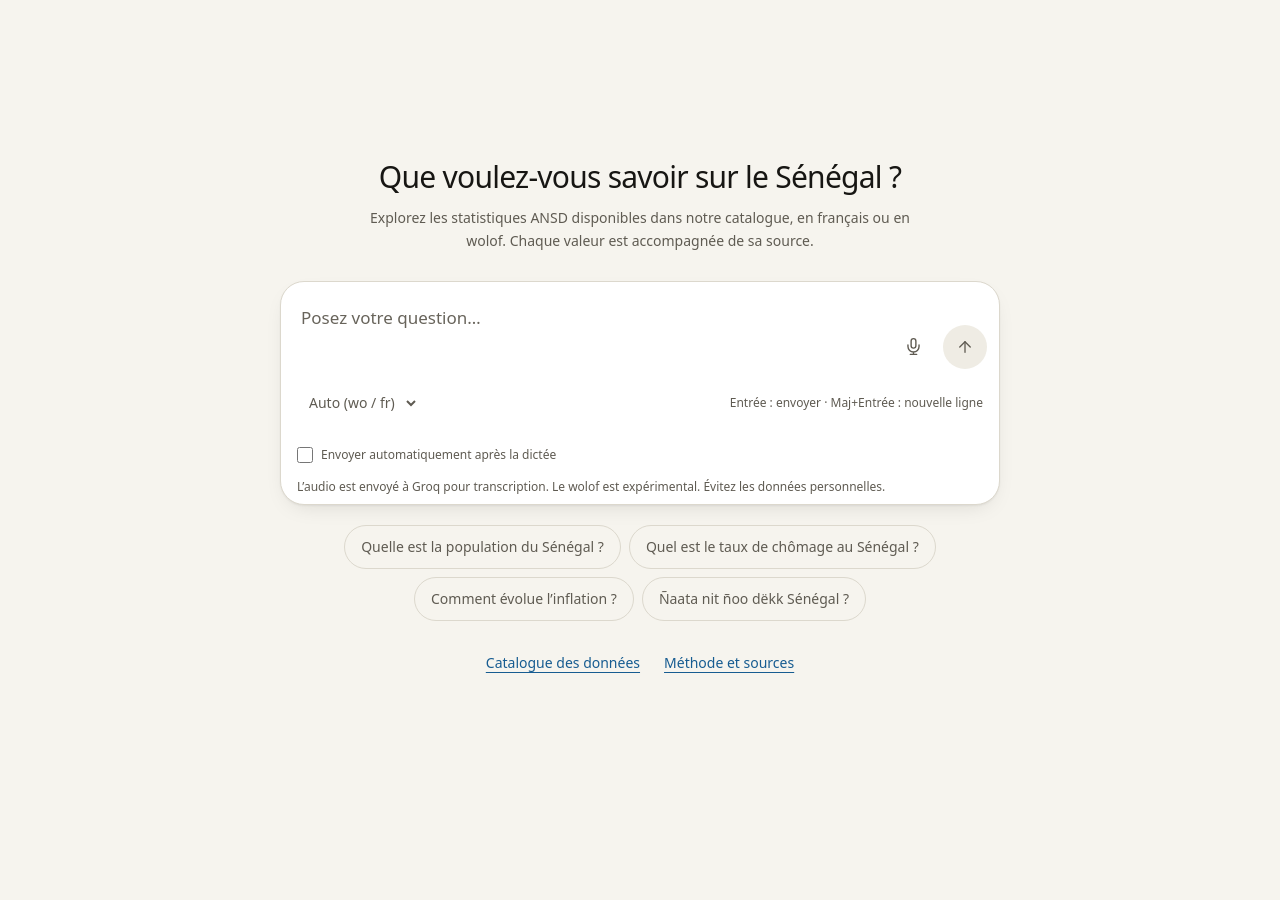
interrupts a pending answer and allows retry without overlapping requests
This screenshot has width=1280, height=900.
Type "Population" into the text box at [592, 331], box [301,294,883,368]
Then press Enter
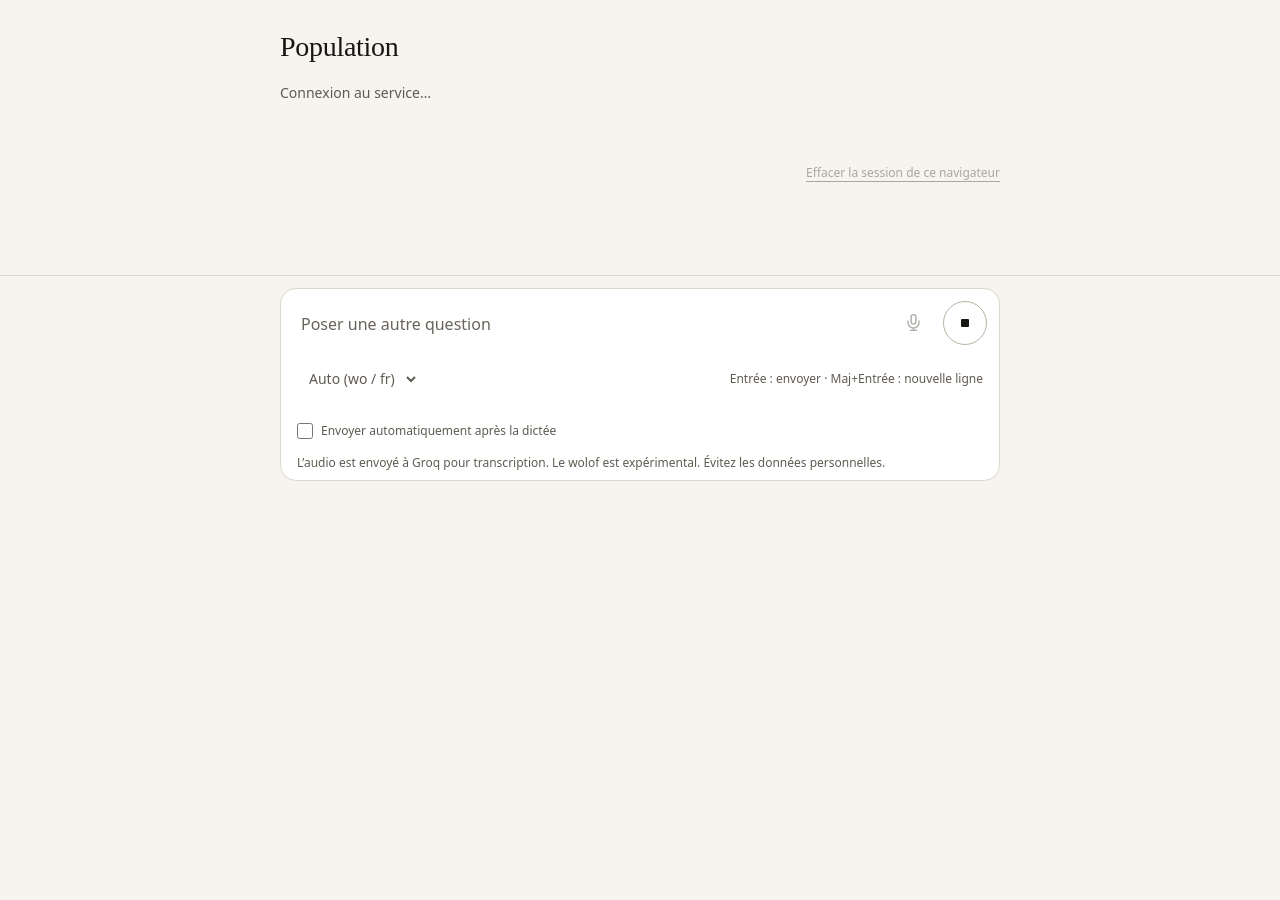
Click the button named "Arrêter la question en cours" at [965, 323], box [943,301,987,345]
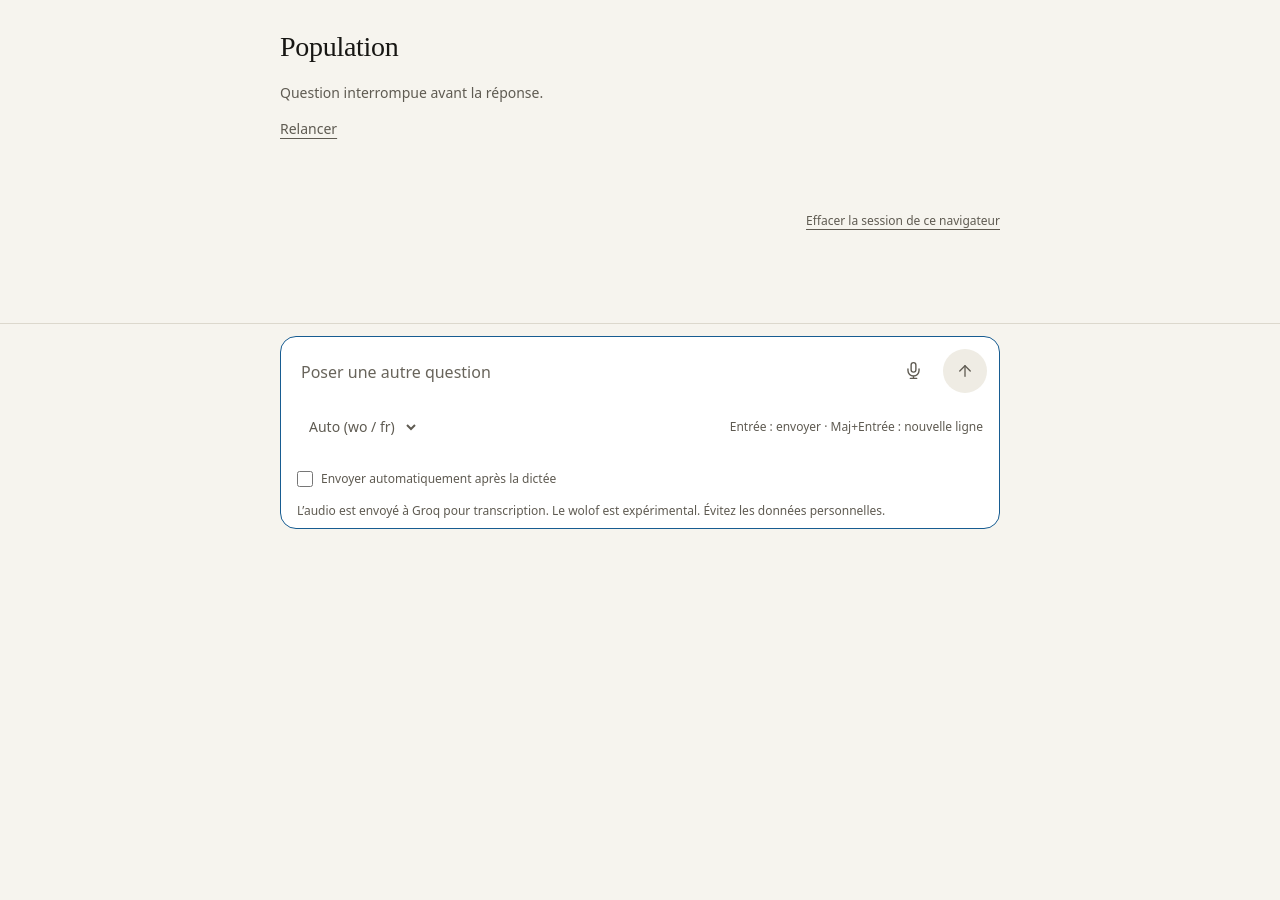
expect the text "Question interrompue avant la réponse." is shown: met, box [280,83,543,102]
Click the button "Relancer" at [309, 129], box [280,107,337,151]
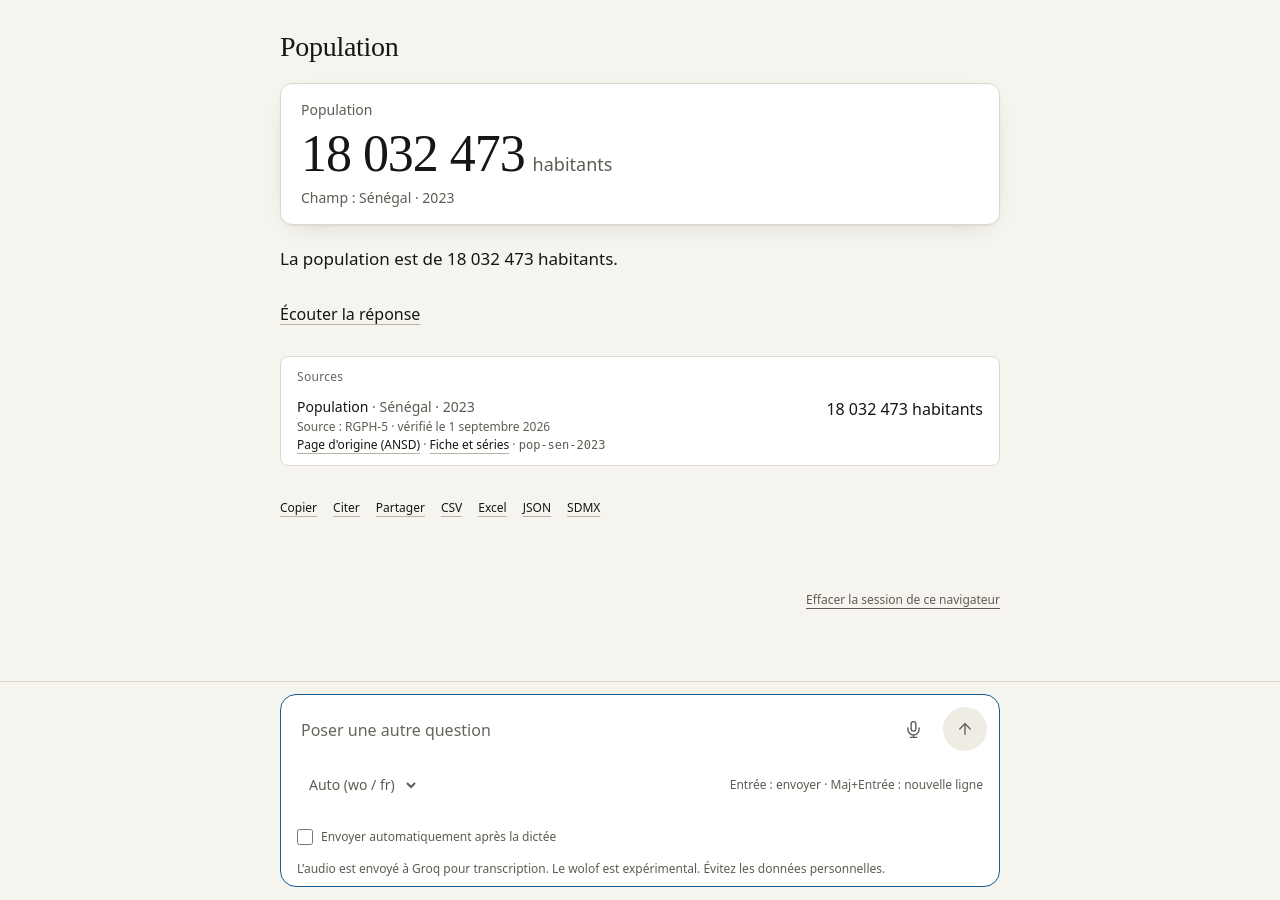
expect the element named "Réponse de SamaStat" is shown: met, box [280,83,1000,530]
